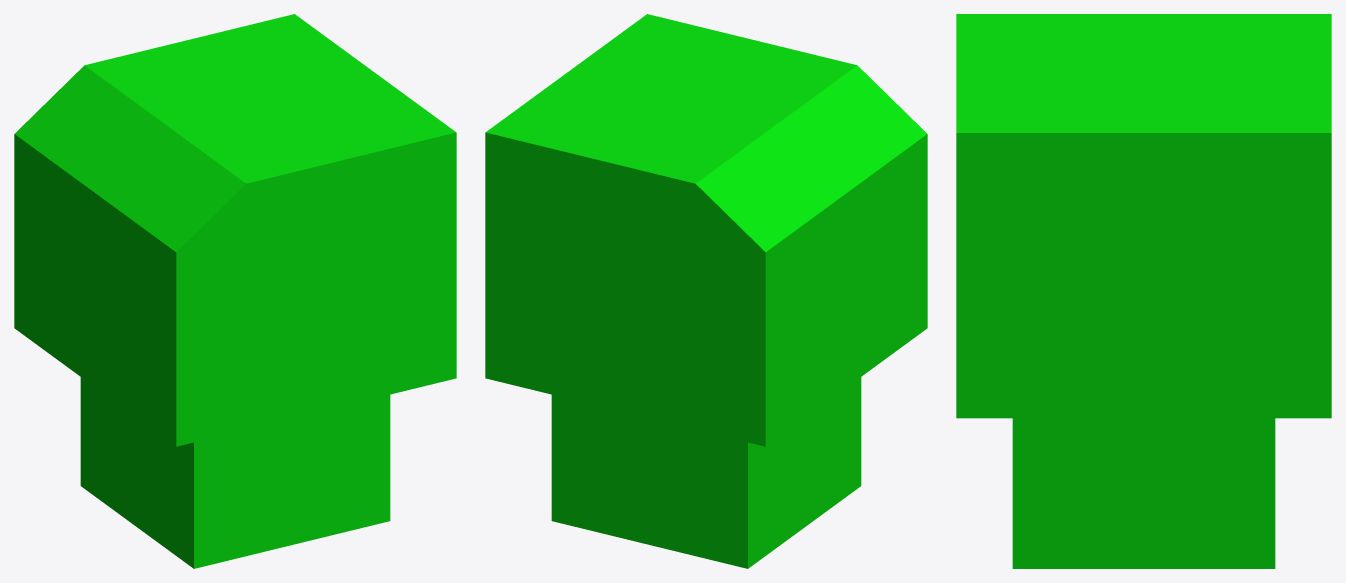
Rendered from hyper.fbx.
3 renders of one model, left to right at view 1: azimuth 30°, elevation 25°; view 2: azimuth 150°, elevation 25°; view 3: azimuth 270°, elevation 25°, orthographic. The views are drawn at different scales.
Parts seen in each view (by area): view 1: 큐브.001, 큐브; view 2: 큐브.001, 큐브; view 3: 큐브.001, 큐브.
Boxes of the visible parts, <box> form: 큐브.001: <box>14,14,456,446</box>; 큐브: <box>80,377,390,568</box>; 큐브.001: <box>485,14,927,446</box>; 큐브: <box>551,377,861,568</box>; 큐브.001: <box>956,14,1331,418</box>; 큐브: <box>1012,418,1275,568</box>.
Bounding box in the file's own units: 200 × 270 × 200.
